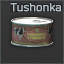Small can of beef stew: (0, 0, 64, 64)
